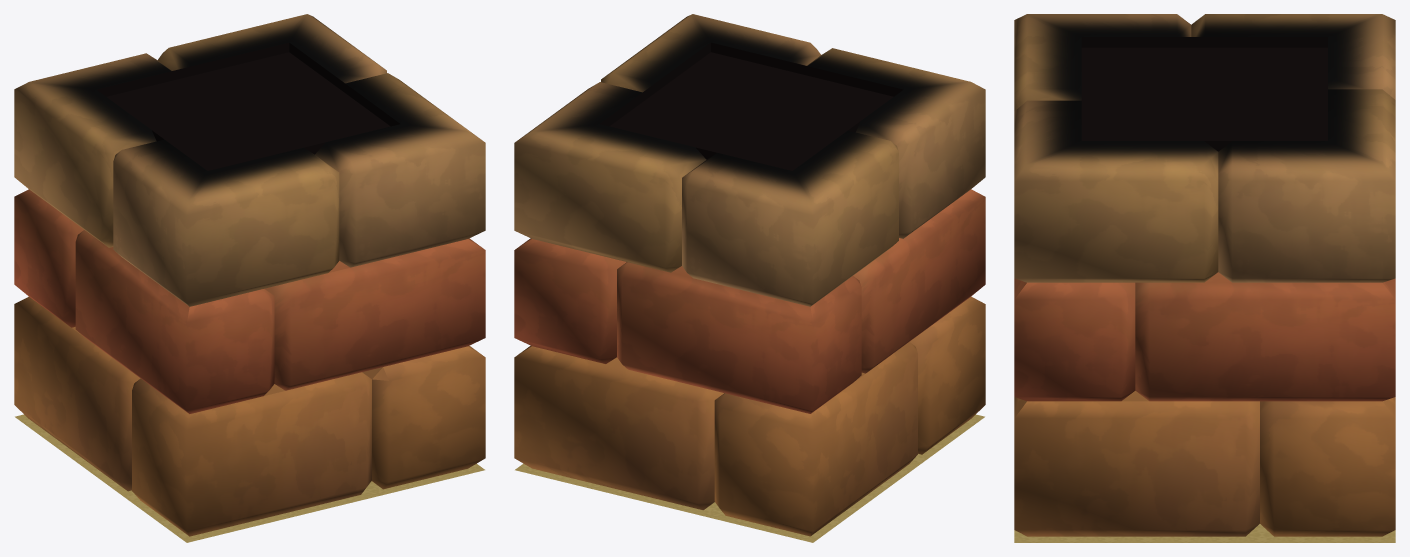
The model's file is Mur.FBX.
The picture shows the model from 3 angles, left to right: view 1: azimuth 30°, elevation 25°; view 2: azimuth 150°, elevation 25°; view 3: azimuth 270°, elevation 25°; orthographic projection. The views are drawn at different scales.
Parts seen in each view (by area): view 1: Mur; view 2: Mur; view 3: Mur.
Part boxes in pixels (x1,y1,x2,y2): Mur: [14, 14, 485, 542]; Mur: [514, 14, 985, 542]; Mur: [1014, 14, 1395, 542].
Size of the model in its own units: 2 by 2.16 by 2.
